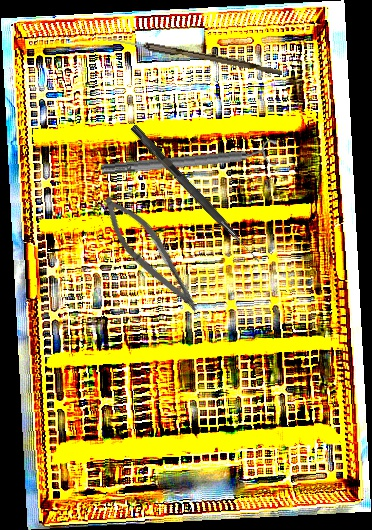Fixation Ring: (100, 138, 279, 183)
Hook Surgical: (128, 124, 264, 264)
Micro Scissor: (90, 188, 215, 320)
Surgical Spoon: (97, 33, 284, 76)
